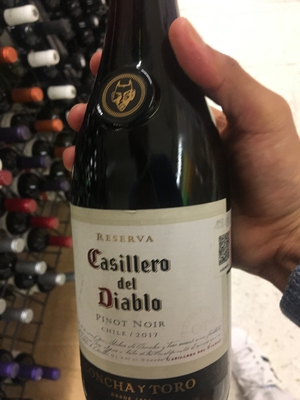casillero del diablo pinot noir: (45, 36, 274, 398)
